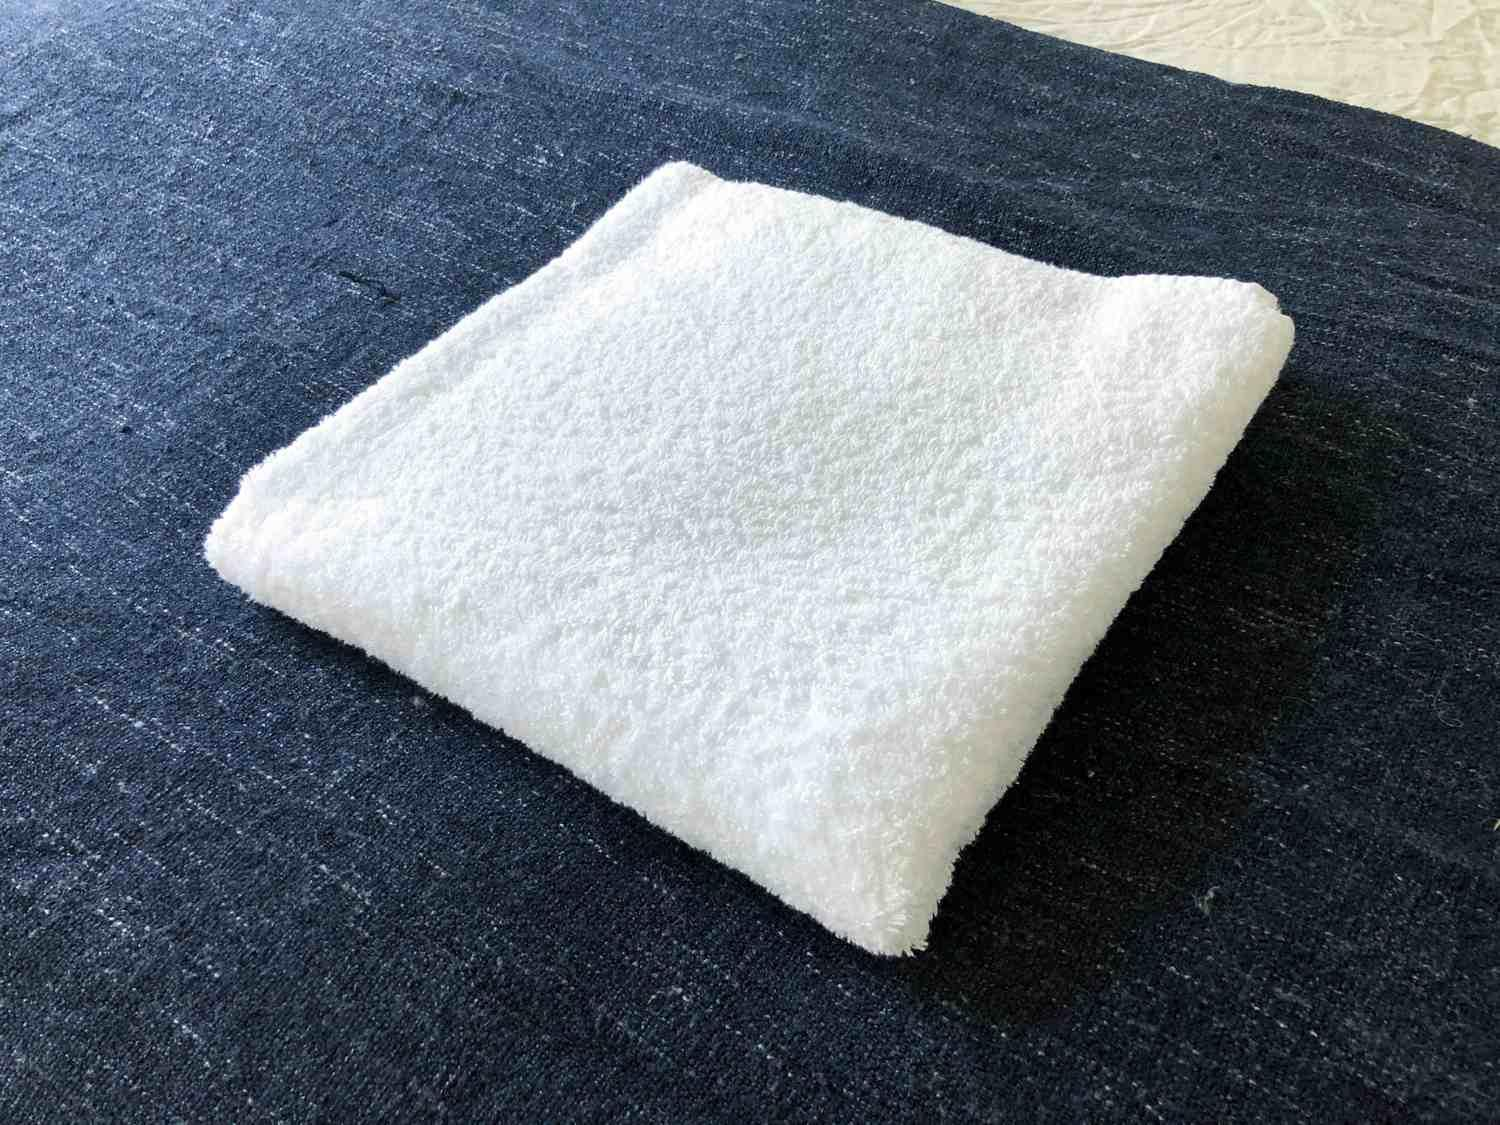towel: (163, 95, 1352, 1047)
